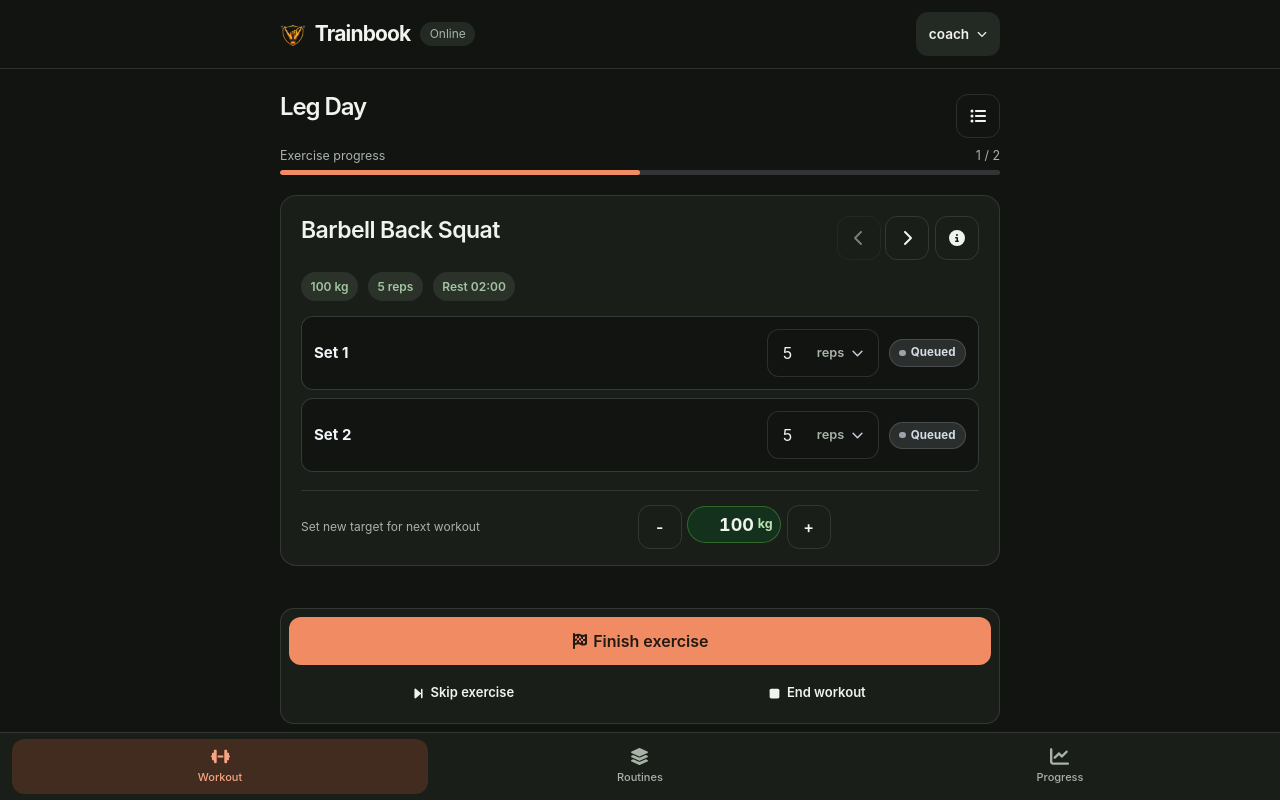
Scenario: App UI flows › opens workout exercise list from an icon button in workout mode
Expected: the text "1. Barbell Back Squat" is not shown
Click the button named "Open workout exercises".
click(978, 116)  # box [956,94,1000,138]
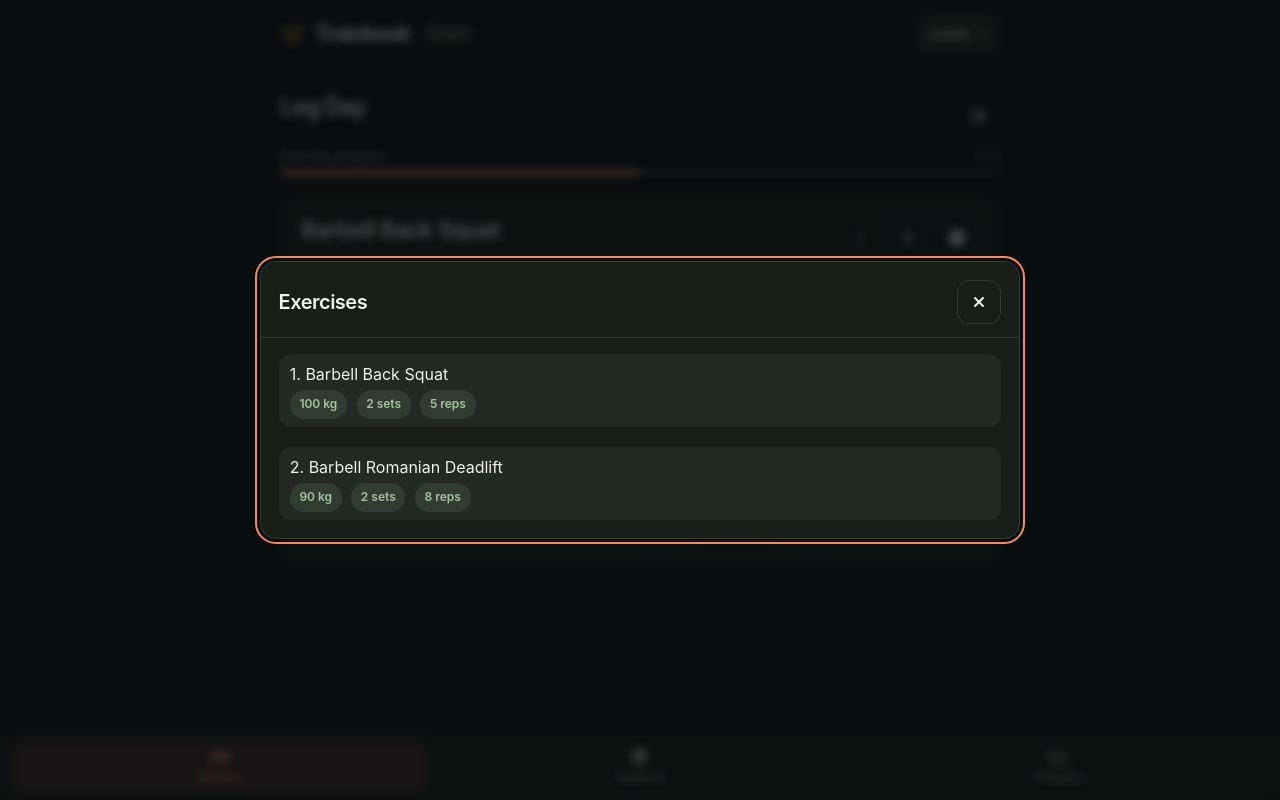
Now the text "1. Barbell Back Squat" is shown, box [290,364,448,384]
Now the text "2. Barbell Romanian Deadlift" is shown, box [290,457,503,477]
Now the button "Finish exercise" is gone
Click the button named "Close workout exercises".
click(979, 302)  # box [957,280,1001,324]
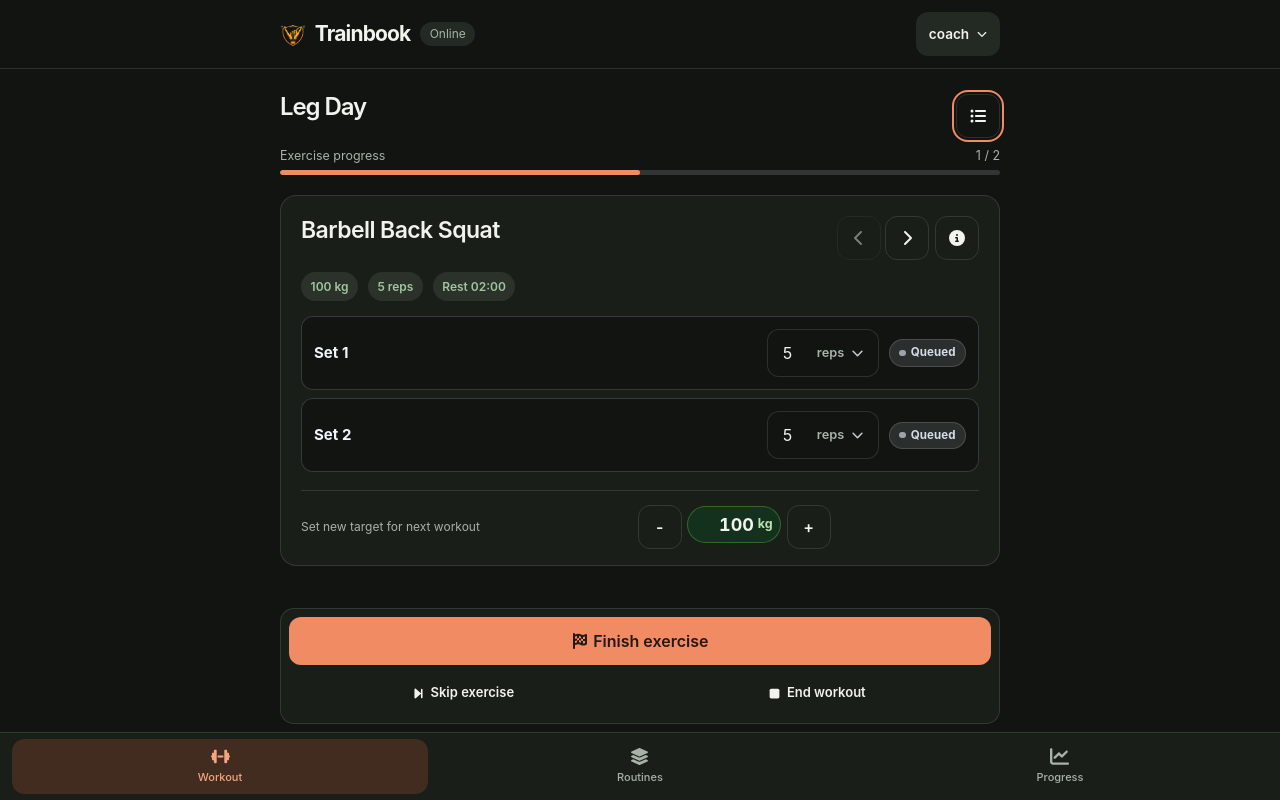
Now the text "1. Barbell Back Squat" is gone
